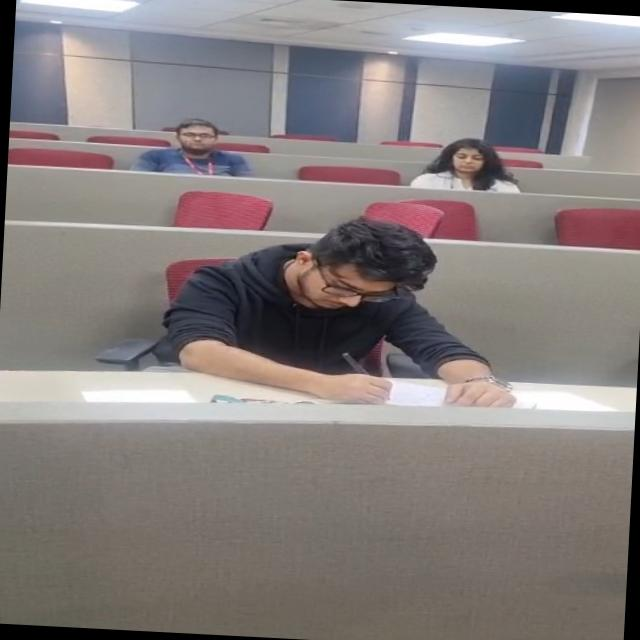cheating: (144, 208, 546, 416)
